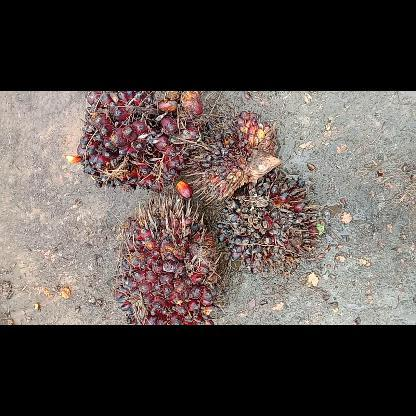Kurang masak: (67, 91, 203, 191)
TBS abnormal: (216, 172, 324, 272), (185, 111, 281, 203)
TBS masak: (114, 191, 220, 324)
